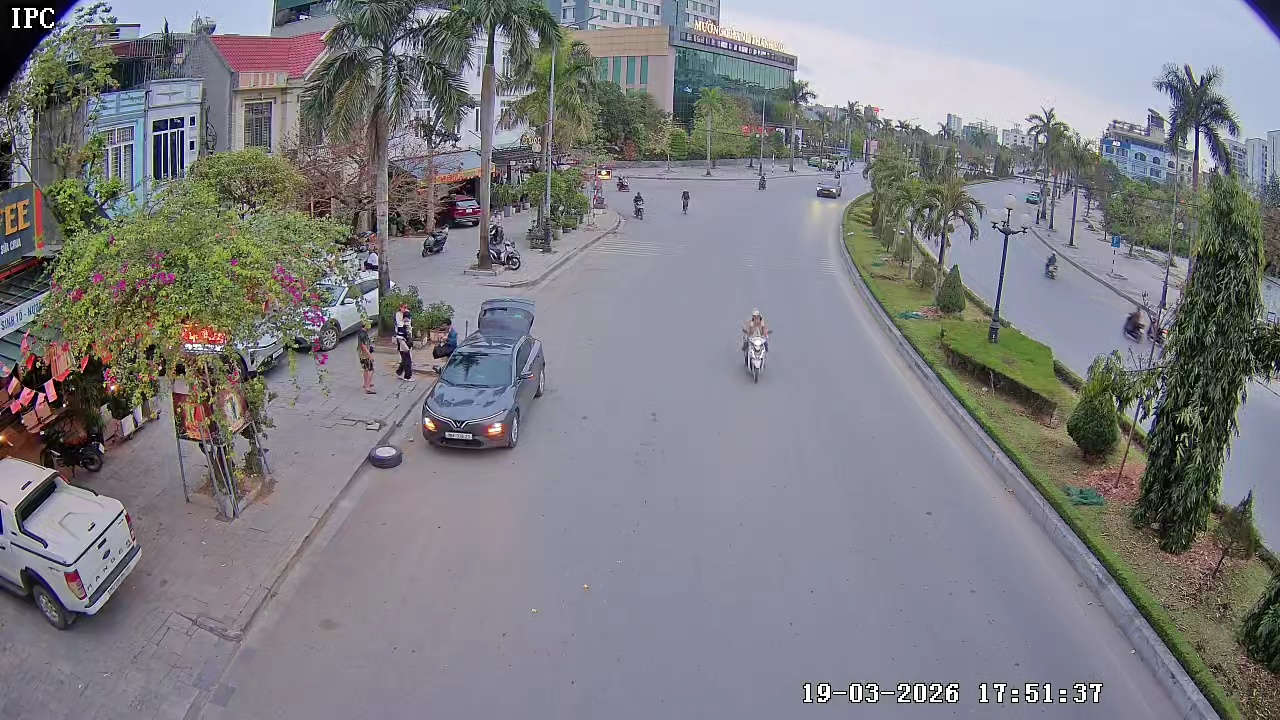car: (0, 486, 143, 629), (421, 333, 543, 451), (477, 292, 538, 342)
motorbike: (737, 307, 775, 384), (1043, 249, 1061, 280), (678, 189, 693, 216)
pedestrian: (394, 307, 416, 377), (359, 350, 377, 394), (394, 347, 414, 380)
truck: (421, 331, 546, 451)
